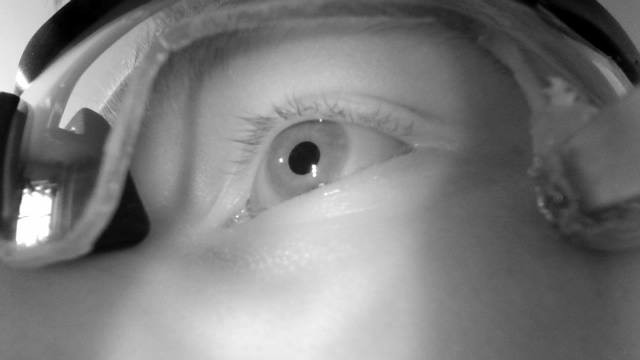pupil: (287, 141, 321, 176)
